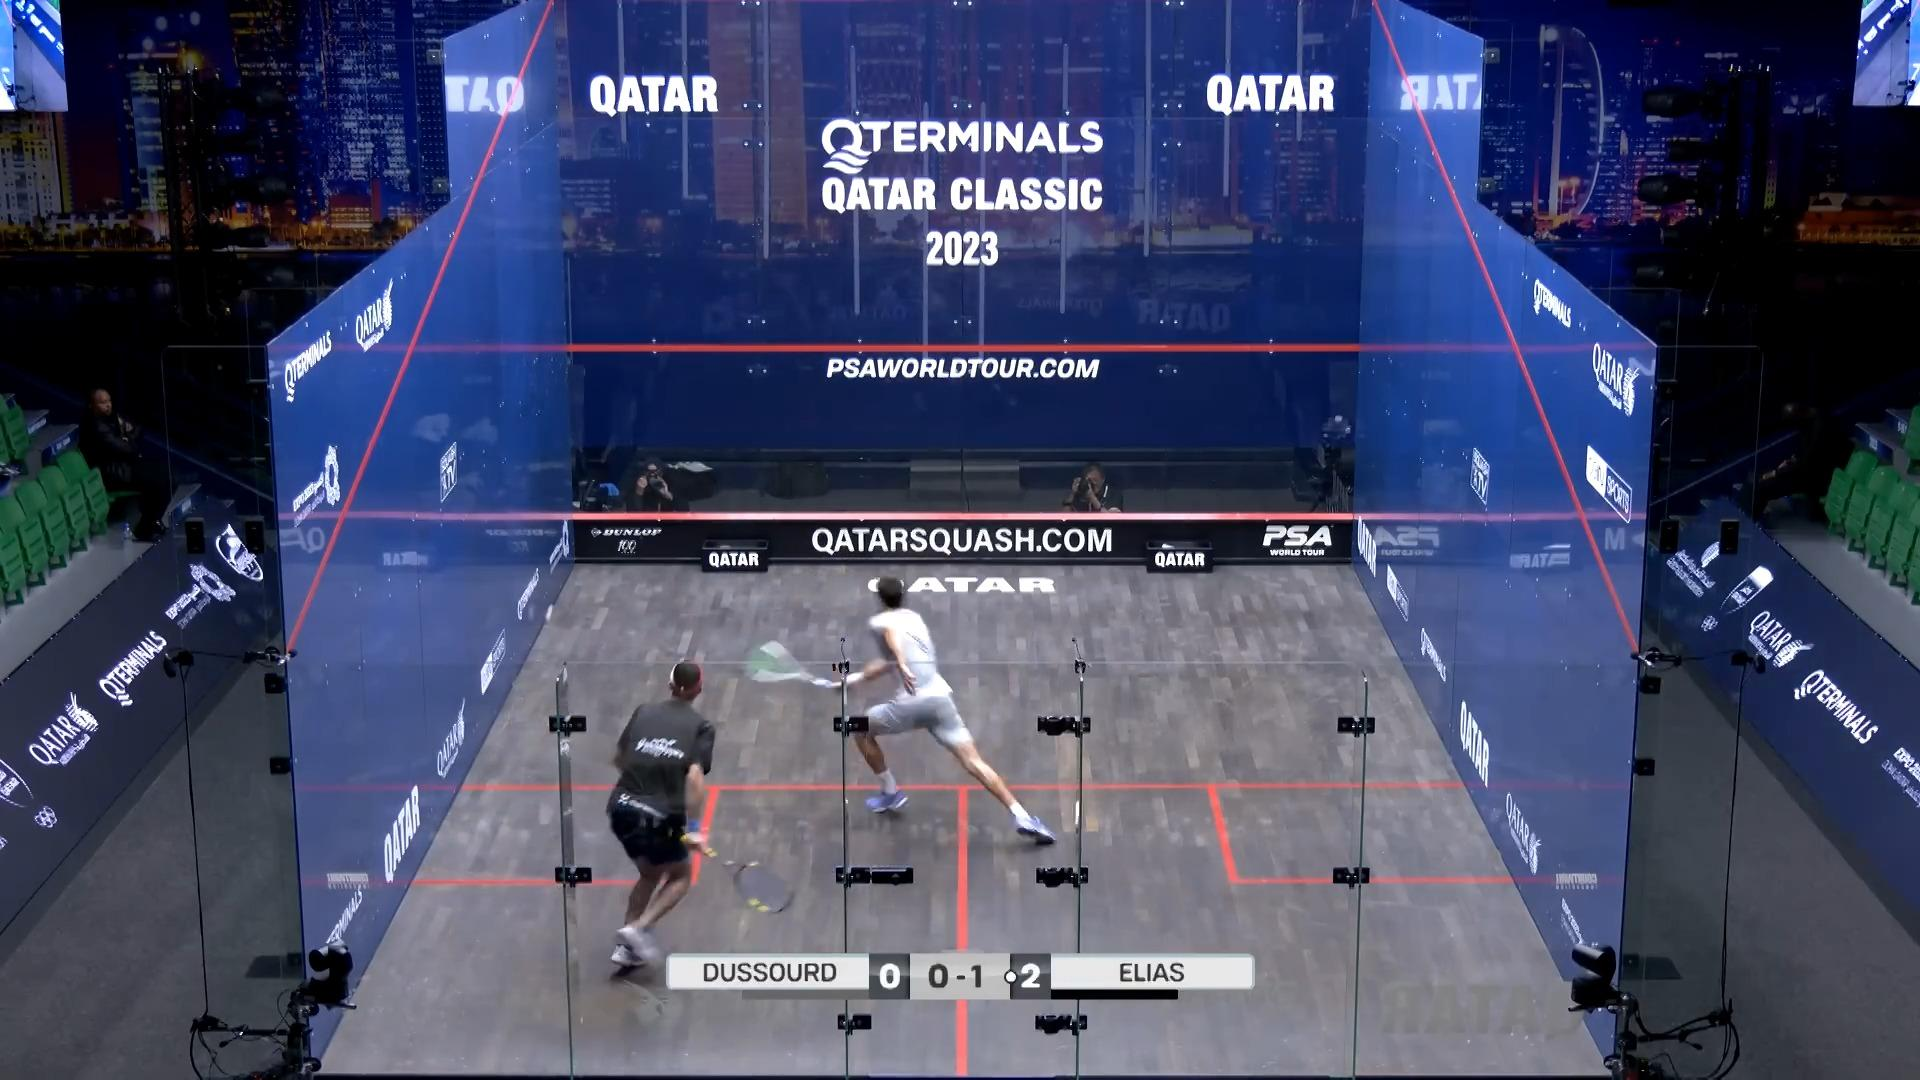Racket: (713, 843, 800, 918), (745, 637, 832, 707)
